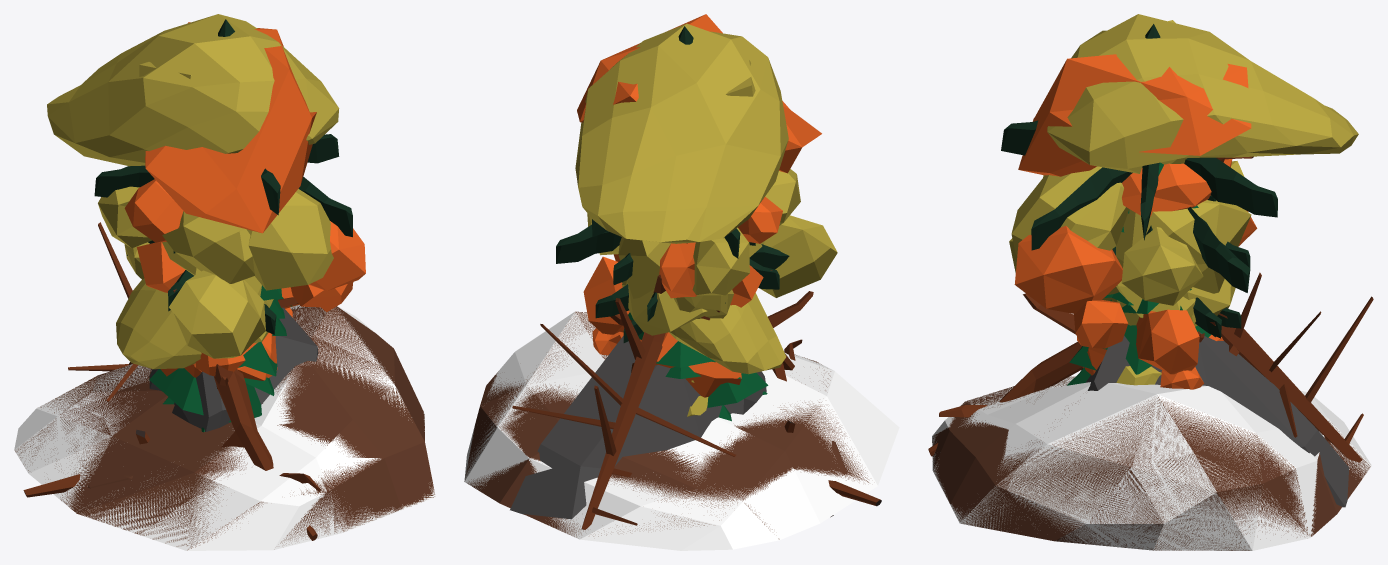
Rendered from Forest_v01.fbx.
The picture shows the model from 3 angles, left to right: view 1: azimuth 30°, elevation 25°; view 2: azimuth 150°, elevation 25°; view 3: azimuth 270°, elevation 25°; orthographic projection.
Visible parts, largest first — view 1: Ground_br_002, Tree_big_Y_005, Ground_W_002, Tree_big_Y_001, Tree_big_Y_002, Tree_mid_Y_001, Pine_big, Rock_v07, Tree_broken_001, Spruce_001, Tree_big_Y_004, Pine_broken (+3 smaller); view 2: Tree_big_Y_005, Ground_W_002, Ground_br_002, Rock_v07, Tree_big_Y_001, Pine_broken, Tree_big_Y_002, Tree_mid_Y_001, Pine_big, Spruce_001, Tree_big_Y_003, Tree_mid_Y_003 (+5 smaller); view 3: Ground_W_002, Ground_br_002, Tree_big_Y_005, Tree_big_Y_001, Pine_big, Rock_v07, Tree_big_Y_004, Pine_broken, Tree_big_Y_003, Tree_broken_001, Tree_mid_Y_003, Pine_mid (+4 smaller).
Part boxes in pixels (left/top/right/bottom): Ground_br_002: left=15, top=305, right=434, bottom=550; Tree_big_Y_005: left=47, top=14, right=339, bottom=290; Ground_W_002: left=14, top=305, right=435, bottom=550; Tree_big_Y_001: left=124, top=22, right=365, bottom=376; Tree_big_Y_002: left=124, top=62, right=265, bottom=358; Tree_mid_Y_001: left=116, top=276, right=273, bottom=369; Pine_big: left=94, top=19, right=352, bottom=253; Rock_v07: left=149, top=307, right=318, bottom=431; Tree_broken_001: left=214, top=364, right=320, bottom=540; Spruce_001: left=149, top=285, right=292, bottom=432; Tree_big_Y_004: left=137, top=242, right=353, bottom=317; Pine_broken: left=68, top=222, right=138, bottom=401; Tree_big_Y_005: left=575, top=23, right=788, bottom=295; Ground_W_002: left=464, top=312, right=899, bottom=550; Ground_br_002: left=465, top=311, right=868, bottom=539; Rock_v07: left=510, top=336, right=766, bottom=519; Tree_big_Y_001: left=577, top=14, right=821, bottom=334; Pine_broken: left=512, top=298, right=735, bottom=529; Tree_big_Y_002: left=673, top=59, right=837, bottom=318; Tree_mid_Y_001: left=622, top=280, right=786, bottom=382; Pine_big: left=556, top=26, right=789, bottom=342; Spruce_001: left=622, top=282, right=768, bottom=421; Tree_big_Y_003: left=618, top=237, right=762, bottom=298; Tree_mid_Y_003: left=627, top=281, right=707, bottom=335; Ground_W_002: left=932, top=376, right=1371, bottom=550; Ground_br_002: left=932, top=376, right=1370, bottom=550; Tree_big_Y_005: left=1011, top=14, right=1358, bottom=305; Tree_big_Y_001: left=1014, top=54, right=1257, bottom=374; Pine_big: left=1001, top=24, right=1277, bottom=328; Rock_v07: left=1086, top=332, right=1349, bottom=507; Tree_big_Y_004: left=1074, top=159, right=1232, bottom=389; Pine_broken: left=1221, top=272, right=1373, bottom=462; Tree_big_Y_003: left=1107, top=200, right=1251, bottom=294; Tree_broken_001: left=928, top=293, right=1082, bottom=456; Tree_mid_Y_003: left=1116, top=279, right=1235, bottom=323; Pine_mid: left=1112, top=195, right=1250, bottom=338.
Size of the model in its own units: 556 by 629 by 560.
